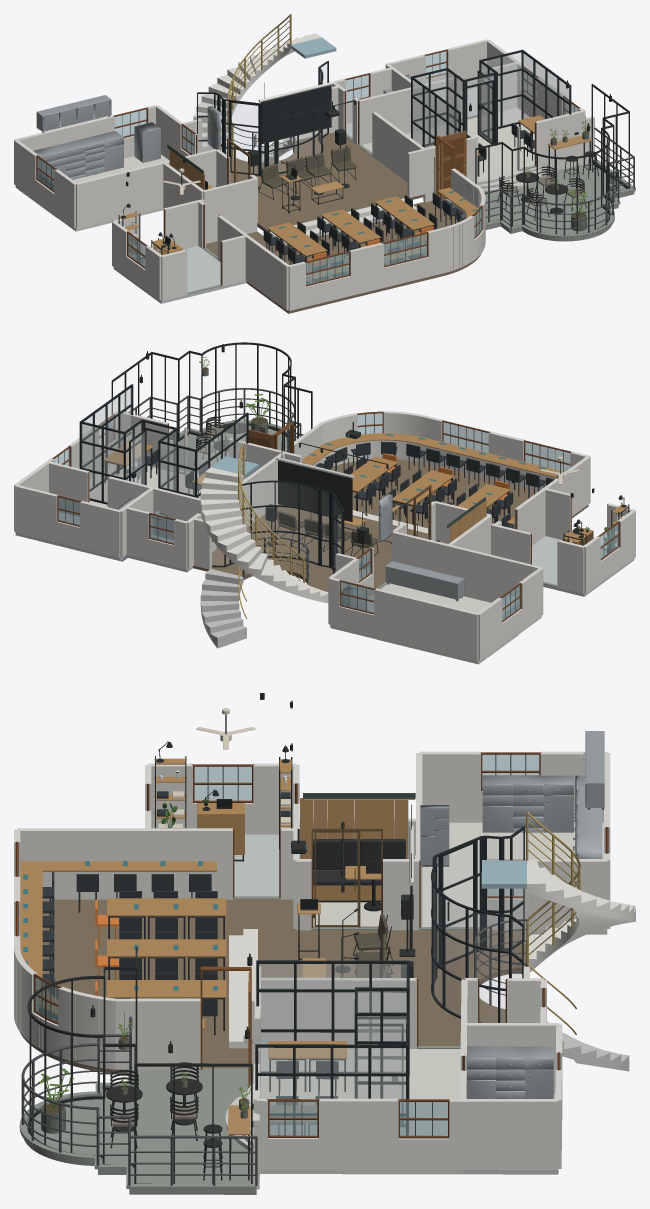
File: ground-floor.glb
The picture shows the model from 3 angles, top to bottom: view 1: azimuth 30°, elevation 25°; view 2: azimuth 150°, elevation 25°; view 3: azimuth 270°, elevation 25°; orthographic projection. The views are drawn at different scales.
Parts seen in each view (by area): view 1: Ground Floor - Planning Base 08 | joined wall display | web, GF-09 | floor | web, GF-08 | floor | web, GF-01 | floor | web, GF-10 | floor | web, PB04 | Corrected Ground Floor | storage_cabinet_mid5_F1_0 | , P02 | GF09-SC1 projection surface | web, PB04 | Ground Floor - continuous UP flight | web, GF-02 | floor | web, PB04 | Corrected Ground Floor | storage_cabinet_low4_F1_0 | , A flat door glass | web, A continuous glazing right | web (+11 smaller); view 2: Ground Floor - Planning Base 08 | joined wall display | web, GF-09 | floor | web, PB04 | Ground Floor - continuous UP flight | web, A continuous glazing right | web, GF-10 | floor | web, P02 | GF09-SC1 black border | web, PB04 | Ground Floor - incoming last 7 steps only | web, GF10 S07 | PROPOSED_Continuous_counter_top | web, PB04 | Corrected Ground Floor | storage_cabinet_low4_F1_0 | , GF-04 | floor | web, GF-02 | floor | web, GF-08 | floor | web (+9 smaller); view 3: Ground Floor - Planning Base 08 | joined wall display | web, GF-08 | floor | web, GF-09 | floor | web, GF-10 | floor | web, GF-01 | floor | web, A continuous glazing right | web, GF-04 | floor | web, PB04 | Corrected Ground Floor | storage_cabinet_mid3_F1_2 | , PB04 | Corrected Ground Floor | storage_cabinet_mid3_F1_1 | , GF10 S07 | PROPOSED_Continuous_counter_top | web, PB04 | Ground Floor - continuous UP flight | web, GF-02 | floor | web (+45 smaller).
Part boxes in pixels (left/top/right/bottom): Ground Floor - Planning Base 08 | joined wall display | web: left=14, top=39, right=594, bottom=310; GF-09 | floor | web: left=230, top=132, right=424, bottom=231; GF-08 | floor | web: left=441, top=162, right=634, bottom=241; GF-01 | floor | web: left=362, top=107, right=534, bottom=179; GF-10 | floor | web: left=206, top=201, right=481, bottom=313; PB04 | Corrected Ground Floor | storage_cabinet_mid5_F1_0 | : left=19, top=131, right=123, bottom=195; P02 | GF09-SC1 projection surface | web: left=262, top=86, right=331, bottom=142; PB04 | Ground Floor - continuous UP flight | web: left=193, top=33, right=321, bottom=155; GF-02 | floor | web: left=113, top=246, right=246, bottom=303; PB04 | Corrected Ground Floor | storage_cabinet_low4_F1_0 | : left=36, top=95, right=111, bottom=132; A flat door glass | web: left=232, top=103, right=257, bottom=173; A continuous glazing right | web: left=262, top=64, right=327, bottom=171; Ground Floor - Planning Base 08 | joined wall display | web: left=14, top=411, right=635, bottom=660; GF-09 | floor | web: left=193, top=504, right=427, bottom=591; PB04 | Ground Floor - continuous UP flight | web: left=200, top=467, right=328, bottom=603; A continuous glazing right | web: left=212, top=483, right=328, bottom=565; GF-10 | floor | web: left=330, top=459, right=588, bottom=528; P02 | GF09-SC1 black border | web: left=278, top=460, right=352, bottom=521; PB04 | Ground Floor - incoming last 7 steps only | web: left=200, top=569, right=246, bottom=648; GF10 S07 | PROPOSED_Continuous_counter_top | web: left=302, top=433, right=564, bottom=524; PB04 | Corrected Ground Floor | storage_cabinet_low4_F1_0 | : left=385, top=561, right=464, bottom=601; GF-04 | floor | web: left=330, top=583, right=541, bottom=663; GF-02 | floor | web: left=532, top=536, right=634, bottom=596; GF-08 | floor | web: left=169, top=425, right=287, bottom=473; Ground Floor - Planning Base 08 | joined wall display | web: left=14, top=751, right=610, bottom=1189; GF-08 | floor | web: left=24, top=1068, right=256, bottom=1194; GF-09 | floor | web: left=258, top=929, right=526, bottom=1045; GF-10 | floor | web: left=20, top=899, right=293, bottom=1072; GF-01 | floor | web: left=259, top=1049, right=463, bottom=1174; A continuous glazing right | web: left=433, top=857, right=521, bottom=1022; GF-04 | floor | web: left=422, top=822, right=607, bottom=934; PB04 | Corrected Ground Floor | storage_cabinet_mid3_F1_2 | : left=482, top=775, right=573, bottom=832; PB04 | Corrected Ground Floor | storage_cabinet_mid3_F1_1 | : left=467, top=1046, right=553, bottom=1098; GF10 S07 | PROPOSED_Continuous_counter_top | web: left=20, top=861, right=216, bottom=1029; PB04 | Ground Floor - continuous UP flight | web: left=527, top=860, right=635, bottom=972; GF-02 | floor | web: left=234, top=834, right=279, bottom=896.
Bounding box in the file's own units: 16.27 × 5.62 × 11.93.
